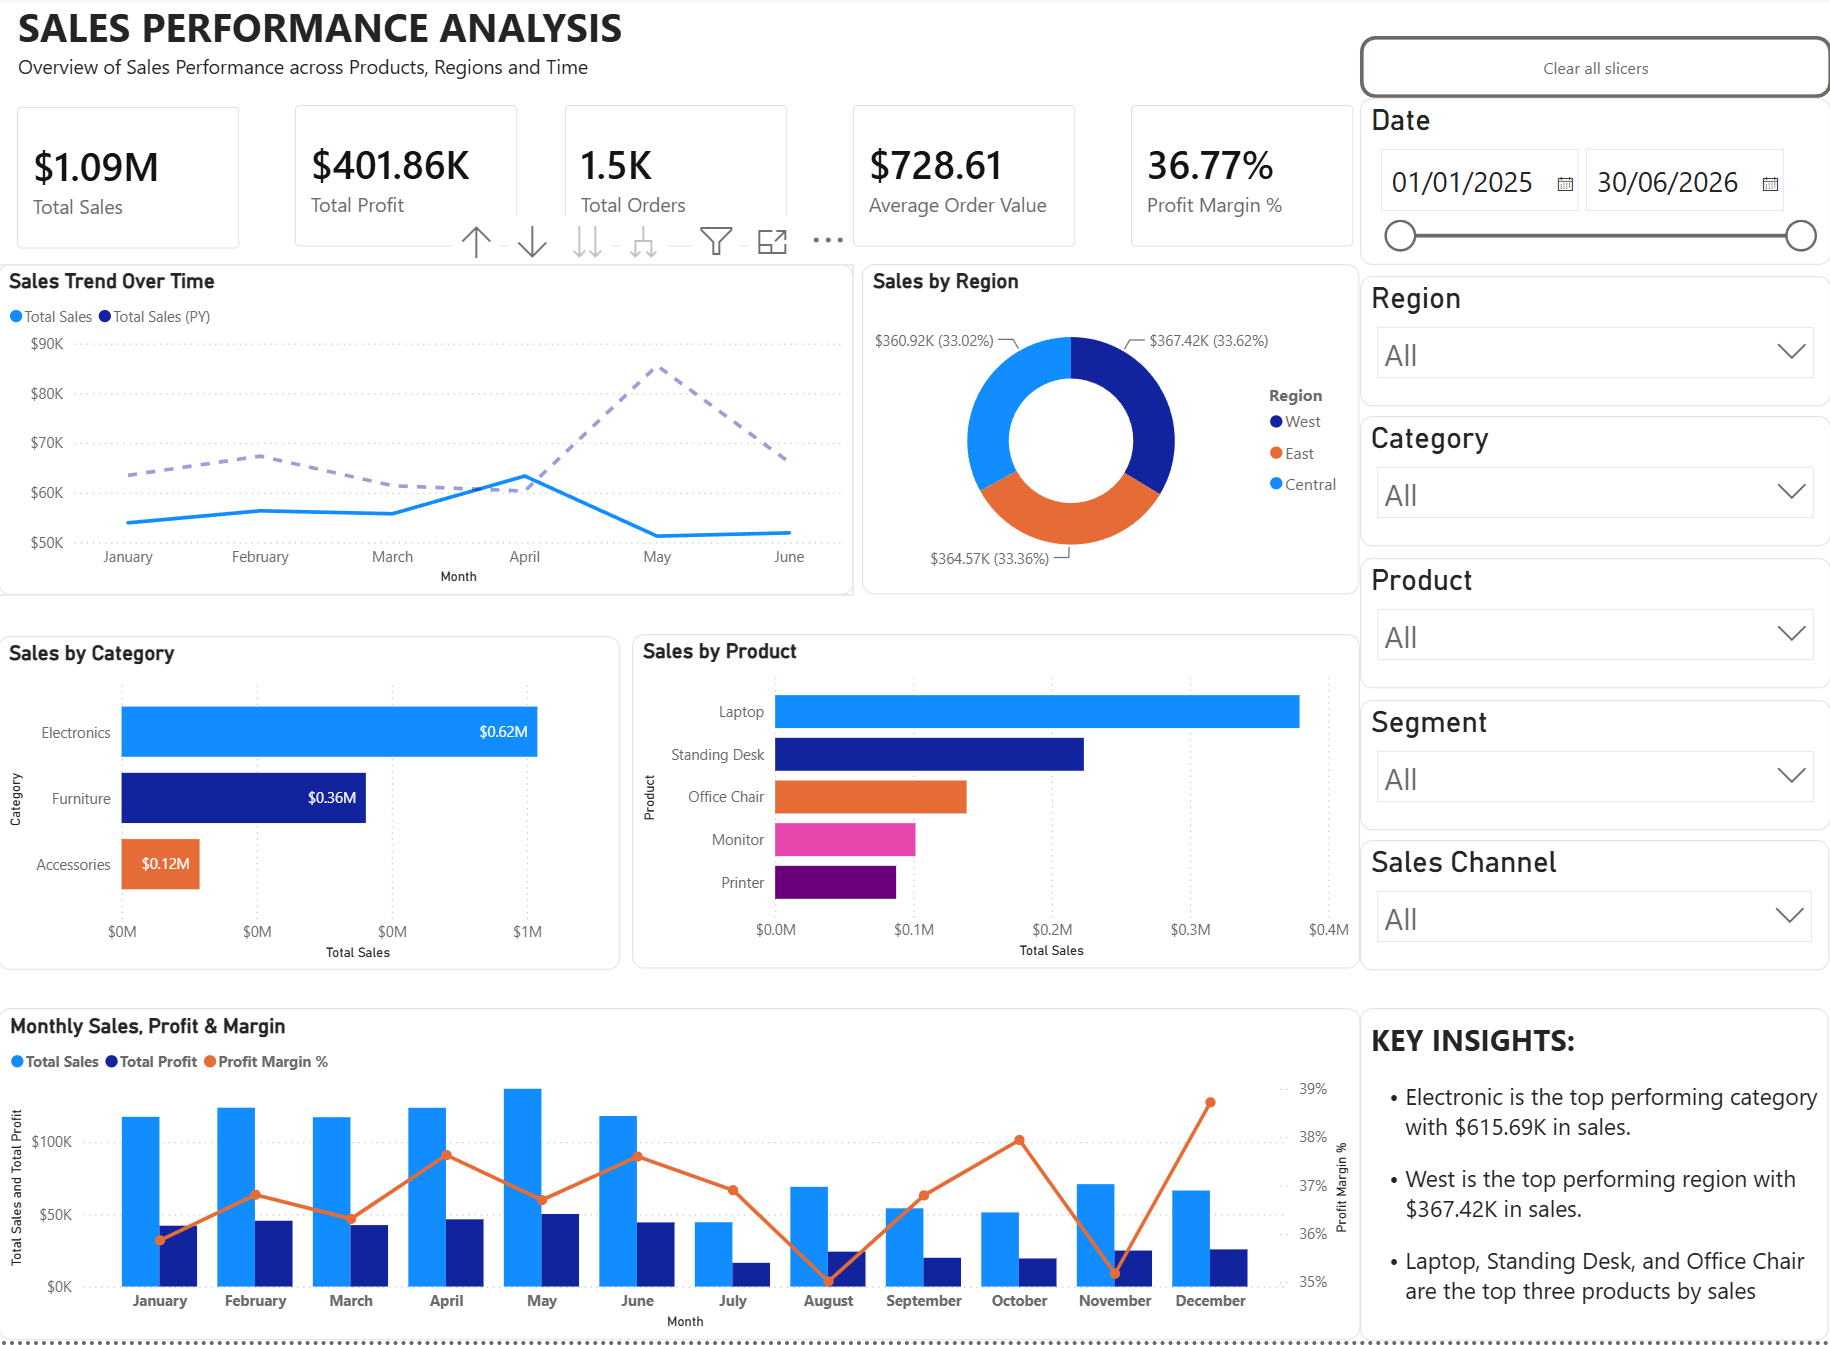

Layout of this report page (visuals, bound fields, positions):
{"tool":"powerbi","page":{"name":"Page 1","canvas":[1500,1100],"ordinal":0},"visuals":[{"type":"textbox","box":[10.7,0,534.4,101.1],"z":0},{"type":"cardVisual","fields":{"Data":["cleaned_sales_data.Total Profit"]},"box":[226,73.6,216,150],"z":1000},{"type":"cardVisual","fields":{"Data":["Count(cleaned_sales_data.Order_ID)"]},"box":[446.9,74,216.7,150],"z":2000},{"type":"cardVisual","fields":{"Data":["cleaned_sales_data.Average_Order_Value"]},"box":[681,74,216,150],"z":3000},{"type":"cardVisual","fields":{"Data":["cleaned_sales_data.Total Sales"]},"box":[-1.5,75.2,216,150],"z":4000},{"type":"cardVisual","fields":{"Data":["cleaned_sales_data.Profit Margin %"]},"box":[908.5,74,216,150],"z":5000},{"type":"lineChart","title":"Sales Trend Over Time","fields":{"Category":["cleaned_sales_data.Order_Date.Variation.Date Hierarchy.Year","cleaned_sales_data.Order_Date.Variation.Date Hierarchy.Month"],"Y":["Sum(cleaned_sales_data.Sales)","cleaned_sales_data.Sales Previous Year"]},"box":[0,221.1,698.9,270.5],"z":6000},{"type":"donutChart","title":"Sales by Region","fields":{"Category":["cleaned_sales_data.Region"],"Y":["Sum(cleaned_sales_data.Sales)"]},"box":[706.7,220.3,406.7,270],"z":7000},{"type":"barChart","title":"Sales by Category","fields":{"Category":["cleaned_sales_data.Category"],"Y":["Sum(cleaned_sales_data.Sales)"],"Series":["cleaned_sales_data.Category"]},"box":[0,524,508.3,273],"z":8000},{"type":"barChart","title":"Sales by Product ","fields":{"Category":["cleaned_sales_data.Product"],"Y":["Sum(cleaned_sales_data.Sales)"],"Series":["cleaned_sales_data.Product"]},"box":[518.3,522.7,595,273.3],"z":9000},{"type":"lineClusteredColumnComboChart","title":"Monthly Sales, Profit & Margin","fields":{"Category":["cleaned_sales_data.Order_Date.Variation.Date Hierarchy.Month"],"Y2":["cleaned_sales_data.Profit Margin %"],"Y":["cleaned_sales_data.Total Sales","cleaned_sales_data.Total Profit"]},"box":[0,828.3,1113.3,271.7],"z":10000},{"type":"slicer","title":"Date","fields":{"Values":["cleaned_sales_data.Order_Date"]},"box":[1113.3,85,385,136.7],"z":11000},{"type":"slicer","title":"Region","fields":{"Values":["cleaned_sales_data.Region"]},"box":[1113.3,230.3,385,106.7],"z":12000},{"type":"slicer","title":"Category","fields":{"Values":["cleaned_sales_data.Category"]},"box":[1113.3,345.7,385,106.7],"z":13000},{"type":"slicer","title":"Product","fields":{"Values":["cleaned_sales_data.Product"]},"box":[1113.3,461,385,106.7],"z":14000},{"type":"slicer","title":"Segment","fields":{"Values":["cleaned_sales_data.Customer_Segment"]},"box":[1113.3,576.3,385,106.7],"z":15000},{"type":"slicer","title":"Sales Channel","fields":{"Values":["cleaned_sales_data.Sales_Channel"]},"box":[1113.3,691.7,383.3,106.7],"z":16000},{"type":"actionButton","box":[1113.1,34.3,385.7,50.7],"z":17000},{"type":"textbox","box":[1113,828,383,272],"z":17001}]}

Visuals, with their boxes in screenshot pixels (x1, y1, x2, y2), scaled from the page's 1500x1100 canvas onto the 1830x1345 screenshot:
textbox: box(13, 0, 665, 124)
cardVisual - cleaned_sales_data.Total Profit: box(276, 90, 539, 273)
cardVisual - Count(cleaned_sales_data.Order_ID): box(545, 90, 810, 274)
cardVisual - cleaned_sales_data.Average_Order_Value: box(831, 90, 1094, 274)
cardVisual - cleaned_sales_data.Total Sales: box(0, 92, 262, 275)
cardVisual - cleaned_sales_data.Profit Margin %: box(1108, 90, 1372, 274)
"Sales Trend Over Time" lineChart: box(0, 270, 853, 601)
"Sales by Region" donutChart: box(862, 269, 1358, 600)
"Sales by Category" barChart: box(0, 641, 620, 975)
"Sales by Product " barChart: box(632, 639, 1358, 973)
"Monthly Sales, Profit & Margin" lineClusteredColumnComboChart: box(0, 1013, 1358, 1344)
"Date" slicer: box(1358, 104, 1828, 271)
"Region" slicer: box(1358, 282, 1828, 412)
"Category" slicer: box(1358, 423, 1828, 553)
"Product" slicer: box(1358, 564, 1828, 694)
"Segment" slicer: box(1358, 705, 1828, 835)
"Sales Channel" slicer: box(1358, 846, 1826, 976)
actionButton: box(1358, 42, 1829, 104)
textbox: box(1358, 1012, 1825, 1344)
